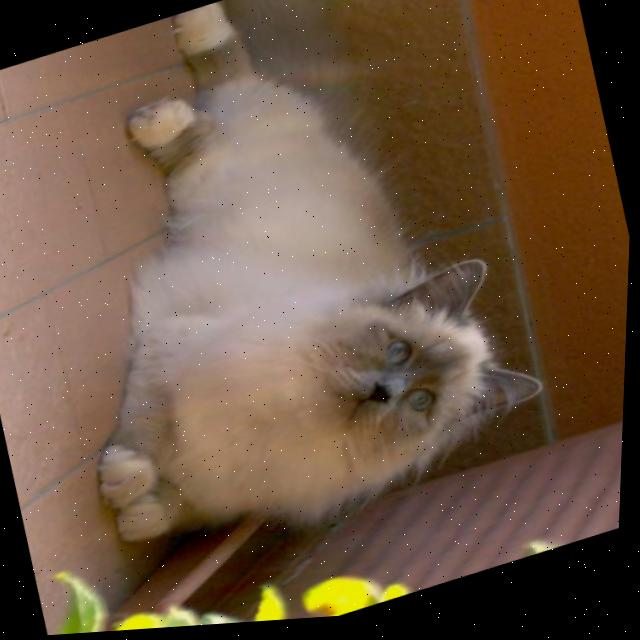Birman: (0, 0, 579, 589)
